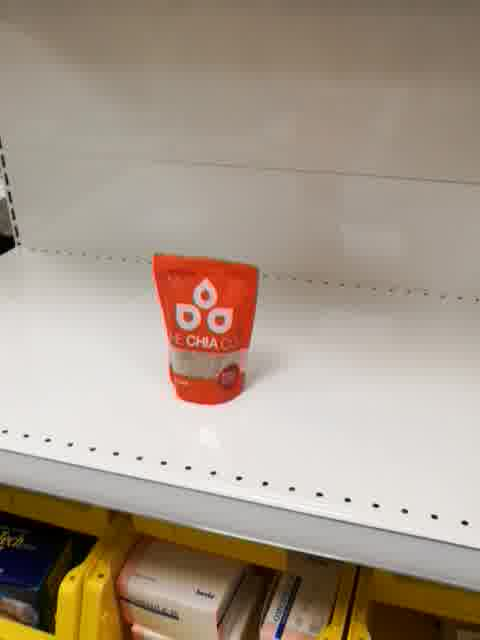whitechia: (151, 249, 261, 407)
